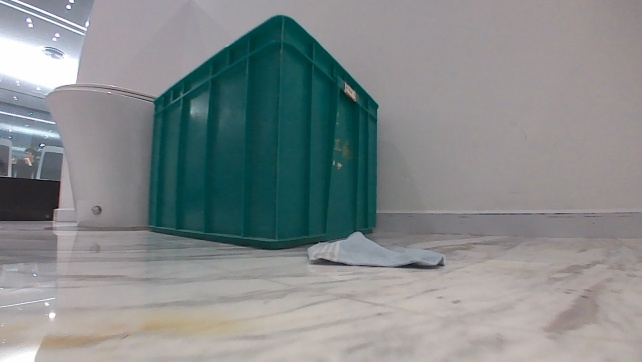socks: (301, 229, 447, 270)
toilet: (41, 78, 152, 232)
